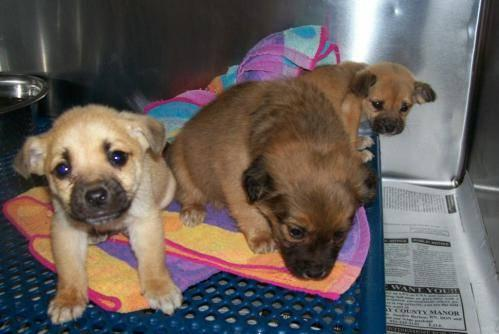dog: (13, 62, 435, 322)
